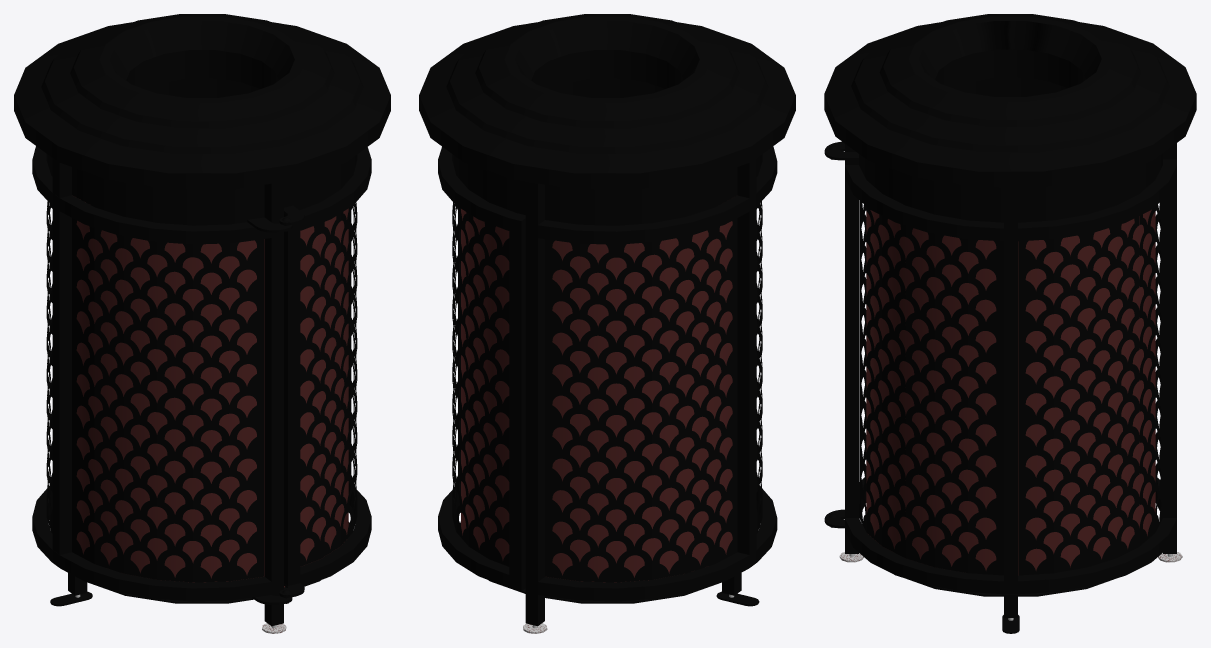
3 renders of one model, left to right at view 1: azimuth 30°, elevation 25°; view 2: azimuth 150°, elevation 25°; view 3: azimuth 270°, elevation 25°, orthographic.
Visible parts, largest first — view 1: mesh18_mesh18-geometry, mesh41_mesh41-geometry, mesh2_mesh2-geometry, mesh42_mesh42-geometry, mesh4_mesh4-geometry, mesh1_mesh1-geometry, mesh6_mesh6-geometry, mesh8_mesh8-geometry, mesh3_mesh3-geometry, mesh39_mesh39-geometry, mesh33_mesh33-geometry, mesh37_mesh37-geometry (+3 smaller); view 2: mesh18_mesh18-geometry, mesh41_mesh41-geometry, mesh4_mesh4-geometry, mesh42_mesh42-geometry, mesh2_mesh2-geometry, mesh6_mesh6-geometry, mesh3_mesh3-geometry, mesh39_mesh39-geometry, mesh1_mesh1-geometry, mesh8_mesh8-geometry, mesh33_mesh33-geometry, mesh35_mesh35-geometry (+2 smaller); view 3: mesh18_mesh18-geometry, mesh41_mesh41-geometry, mesh4_mesh4-geometry, mesh2_mesh2-geometry, mesh6_mesh6-geometry, mesh42_mesh42-geometry, mesh1_mesh1-geometry, mesh3_mesh3-geometry, mesh8_mesh8-geometry, mesh33_mesh33-geometry, mesh35_mesh35-geometry, mesh37_mesh37-geometry (+3 smaller).
Part boxes in pixels (bbox=[...]): mesh18_mesh18-geometry: bbox=[14, 14, 390, 189]; mesh41_mesh41-geometry: bbox=[76, 199, 348, 587]; mesh2_mesh2-geometry: bbox=[94, 228, 229, 582]; mesh42_mesh42-geometry: bbox=[46, 78, 357, 225]; mesh4_mesh4-geometry: bbox=[46, 201, 357, 558]; mesh1_mesh1-geometry: bbox=[72, 218, 320, 566]; mesh6_mesh6-geometry: bbox=[32, 94, 371, 586]; mesh8_mesh8-geometry: bbox=[32, 94, 371, 601]; mesh3_mesh3-geometry: bbox=[51, 205, 352, 581]; mesh39_mesh39-geometry: bbox=[264, 182, 283, 626]; mesh33_mesh33-geometry: bbox=[52, 206, 351, 554]; mesh37_mesh37-geometry: bbox=[284, 213, 300, 585]; mesh18_mesh18-geometry: bbox=[419, 14, 795, 189]; mesh41_mesh41-geometry: bbox=[461, 200, 732, 582]; mesh4_mesh4-geometry: bbox=[580, 228, 714, 582]; mesh42_mesh42-geometry: bbox=[452, 78, 762, 225]; mesh2_mesh2-geometry: bbox=[452, 201, 762, 558]; mesh6_mesh6-geometry: bbox=[438, 94, 777, 587]; mesh3_mesh3-geometry: bbox=[489, 218, 737, 566]; mesh39_mesh39-geometry: bbox=[525, 181, 544, 626]; mesh1_mesh1-geometry: bbox=[457, 205, 757, 581]; mesh8_mesh8-geometry: bbox=[438, 95, 777, 601]; mesh33_mesh33-geometry: bbox=[458, 206, 756, 554]; mesh35_mesh35-geometry: bbox=[509, 213, 525, 590]; mesh18_mesh18-geometry: bbox=[824, 14, 1196, 187]; mesh41_mesh41-geometry: bbox=[866, 209, 1155, 575]; mesh4_mesh4-geometry: bbox=[867, 207, 968, 572]; mesh2_mesh2-geometry: bbox=[1054, 207, 1155, 572]; mesh6_mesh6-geometry: bbox=[845, 94, 1176, 594]; mesh42_mesh42-geometry: bbox=[859, 77, 1162, 222]; mesh1_mesh1-geometry: bbox=[859, 200, 1161, 575]; mesh3_mesh3-geometry: bbox=[861, 200, 1162, 575]; mesh8_mesh8-geometry: bbox=[845, 94, 1176, 594]; mesh33_mesh33-geometry: bbox=[1004, 241, 1017, 581]; mesh35_mesh35-geometry: bbox=[1163, 159, 1176, 517]; mesh37_mesh37-geometry: bbox=[845, 160, 858, 517].
Bounding box in the file's own units: 0.4814 × 0.7275 × 0.4888.
